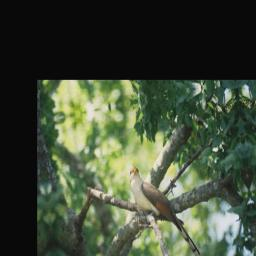Cuckoo: (126, 152, 203, 256)
